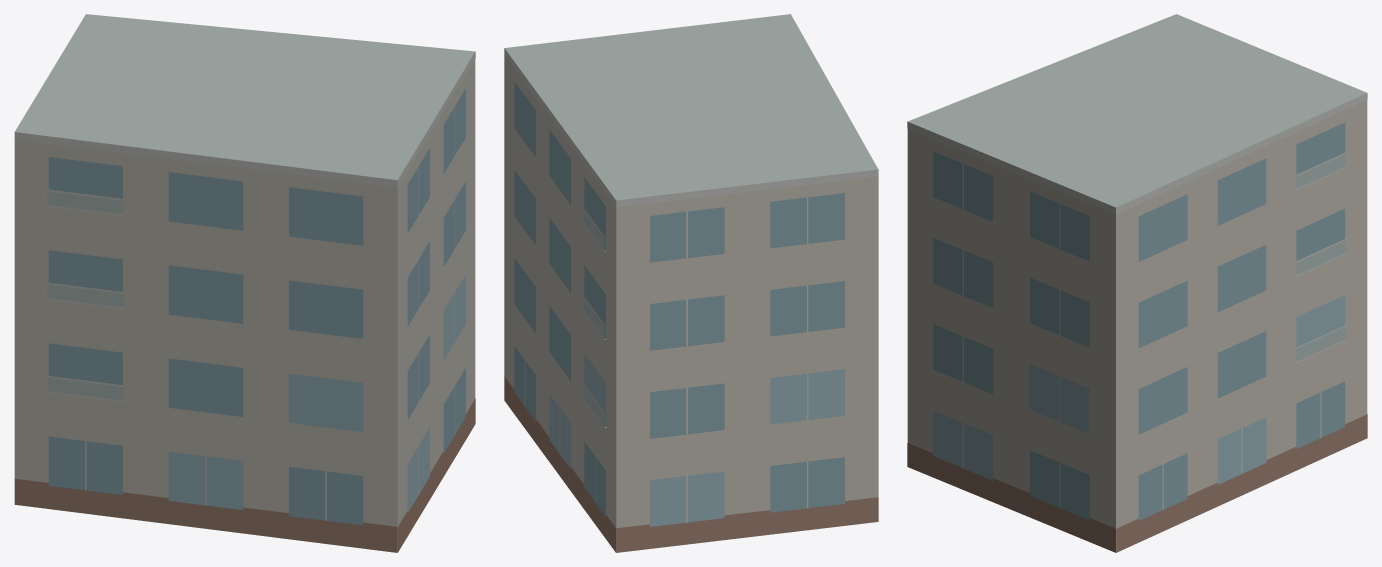
Rendered from survey-upis-32499146.glb.
The picture shows the model from 3 angles, left to right: view 1: azimuth 30°, elevation 25°; view 2: azimuth 150°, elevation 25°; view 3: azimuth 270°, elevation 25°; orthographic projection. The views are drawn at different scales.
Visible parts, largest first — view 1: survey-upis-32499146.tmp; view 2: survey-upis-32499146.tmp; view 3: survey-upis-32499146.tmp.
Boxes of the visible parts, box(x1,y1,x2,y2) form: survey-upis-32499146.tmp: box(14, 14, 475, 552); survey-upis-32499146.tmp: box(504, 14, 878, 552); survey-upis-32499146.tmp: box(907, 14, 1367, 552).
Size of the model in its own units: 14.68 by 12.2 by 14.74.
